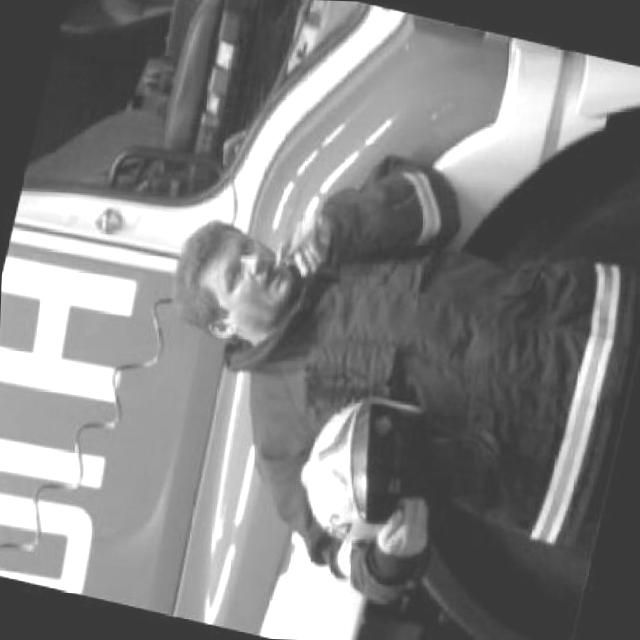smoke: (278, 220, 318, 276)
